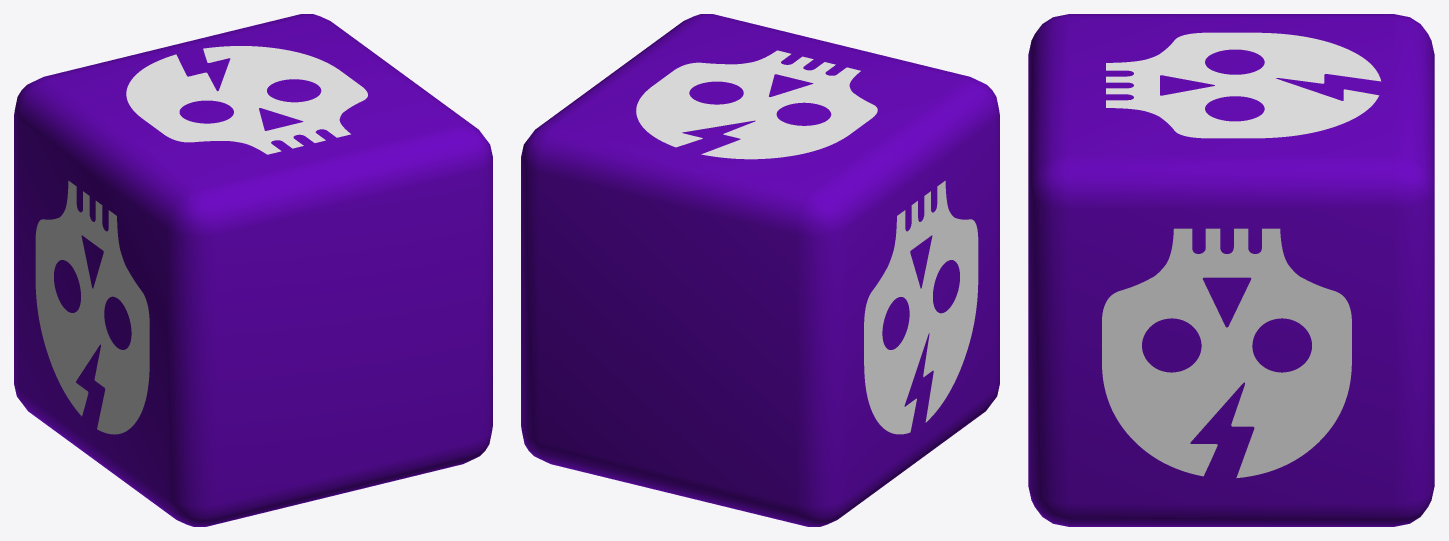
Rendered from CurseDice.fbx.
3 renders of one model, left to right at view 1: azimuth 30°, elevation 25°; view 2: azimuth 150°, elevation 25°; view 3: azimuth 270°, elevation 25°, orthographic. The views are drawn at different scales.
Parts seen in each view (by area): view 1: CurseDice; view 2: CurseDice; view 3: CurseDice.
Part boxes in pixels (box(x1,y1,x2,y2)): CurseDice: box(14, 14, 492, 526); CurseDice: box(521, 14, 999, 526); CurseDice: box(1028, 14, 1434, 526).
Bounding box in the file's own units: 200 × 200 × 200.
